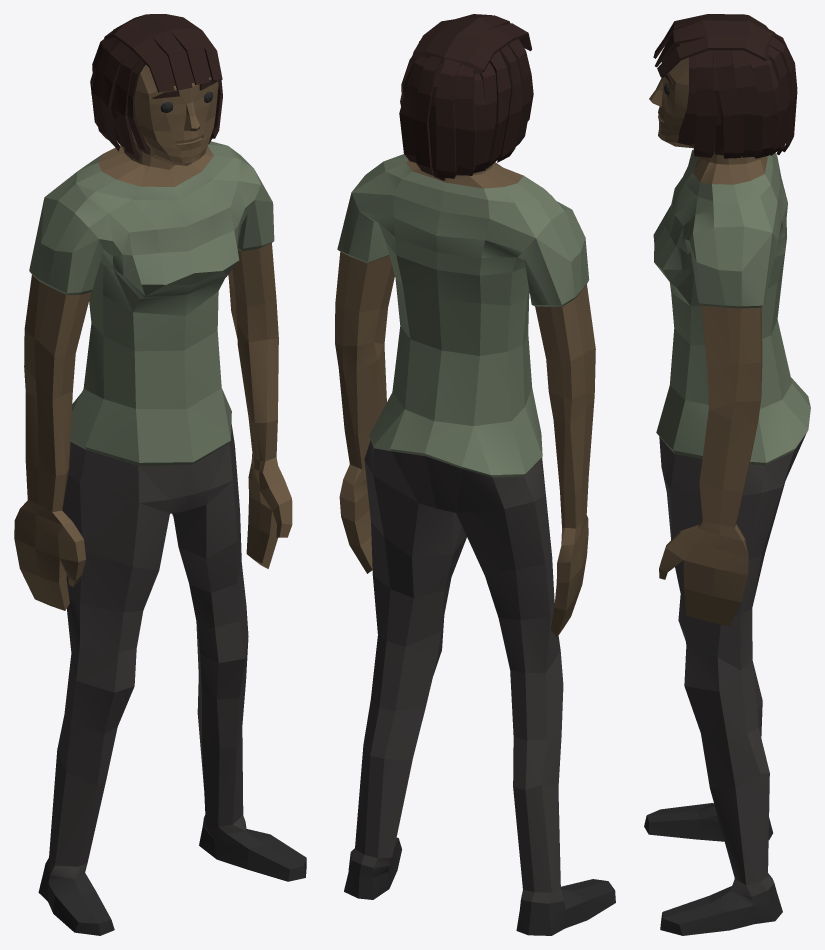
Rendered from woman-static.glb.
The picture shows the model from 3 angles, left to right: view 1: azimuth 30°, elevation 25°; view 2: azimuth 150°, elevation 25°; view 3: azimuth 270°, elevation 25°; orthographic projection. The views are drawn at different scales.
Bounding box in the file's own units: 0.5035 × 1.66 × 0.2936.
